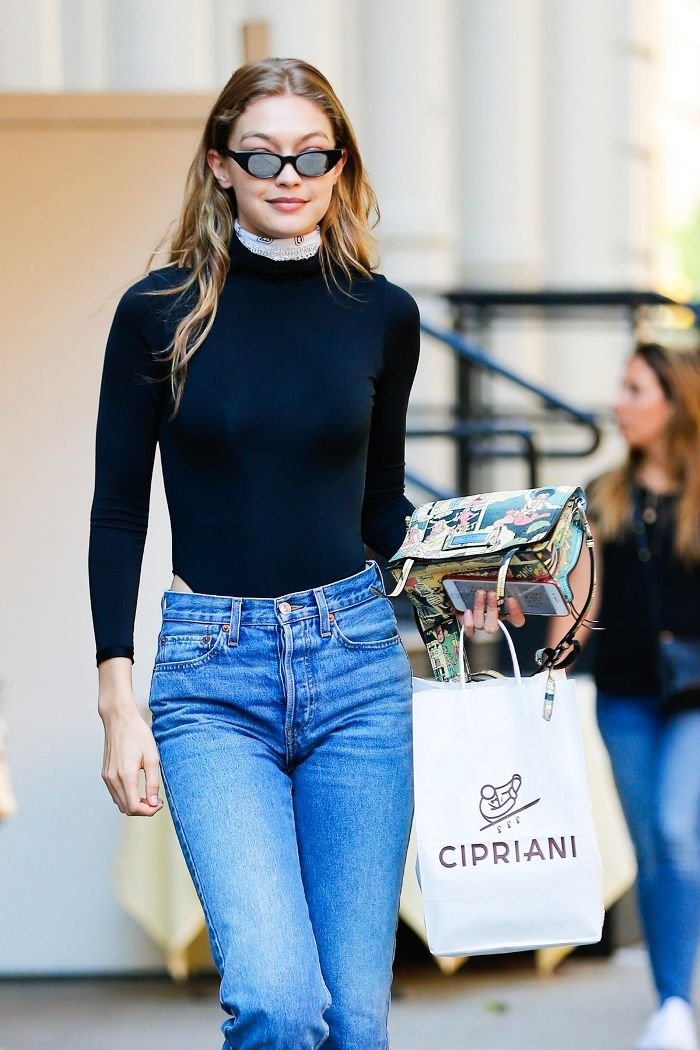jeans: (146, 586, 408, 1040)
sunglasses: (224, 147, 354, 187)
